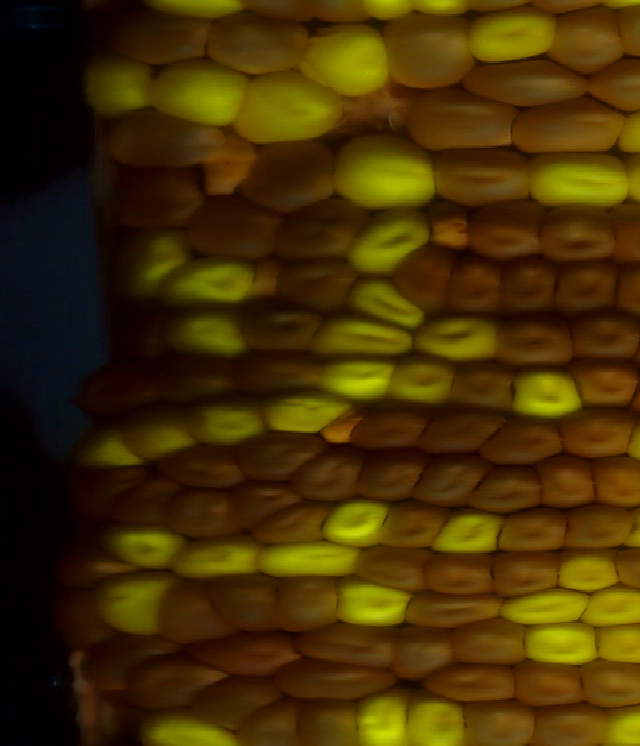fluorescent: (328, 133, 442, 212), (235, 69, 342, 143), (298, 19, 388, 97), (150, 55, 250, 125), (526, 149, 629, 209), (157, 255, 261, 308), (463, 6, 560, 62), (310, 314, 415, 360), (81, 53, 156, 117), (345, 272, 425, 330), (349, 212, 428, 269), (97, 572, 167, 635), (171, 533, 263, 580), (254, 540, 365, 578), (417, 316, 499, 367), (508, 367, 584, 420), (191, 401, 270, 448), (265, 390, 349, 434), (403, 690, 468, 746), (321, 499, 393, 549), (133, 709, 230, 746), (339, 577, 407, 628), (126, 237, 187, 293), (124, 406, 193, 455), (435, 508, 504, 557), (502, 590, 592, 627), (108, 525, 186, 567), (383, 359, 457, 403), (518, 624, 599, 664), (354, 690, 410, 745), (175, 316, 247, 357), (325, 359, 393, 402), (557, 550, 623, 592), (582, 583, 640, 628), (77, 433, 147, 470), (597, 624, 640, 665), (607, 704, 640, 746)
nonfluorescent: (110, 108, 236, 165), (509, 96, 629, 154), (405, 93, 520, 153), (204, 11, 310, 74), (384, 12, 472, 87), (465, 57, 593, 106), (275, 196, 365, 265), (246, 140, 335, 206), (189, 199, 282, 260), (110, 7, 215, 61), (433, 148, 531, 204), (465, 199, 549, 264), (113, 166, 194, 233), (551, 3, 626, 75), (76, 357, 162, 419), (279, 655, 398, 699), (539, 199, 617, 264), (204, 570, 283, 633), (491, 313, 577, 370), (236, 297, 319, 355), (484, 411, 566, 467), (157, 577, 224, 644), (299, 622, 398, 667), (239, 430, 323, 483), (131, 649, 213, 703), (171, 482, 245, 540), (471, 459, 545, 517), (447, 616, 526, 670), (158, 440, 246, 488), (421, 449, 486, 512), (158, 353, 238, 404), (398, 246, 456, 316), (561, 404, 634, 459), (551, 260, 620, 318), (212, 635, 305, 678), (276, 256, 351, 309), (354, 545, 436, 593), (514, 656, 588, 708), (498, 254, 557, 319), (421, 402, 499, 451), (429, 661, 520, 703), (447, 249, 503, 317), (538, 451, 598, 514), (571, 313, 640, 367), (349, 401, 428, 448), (275, 575, 342, 630), (77, 635, 155, 682), (393, 623, 454, 683), (235, 350, 320, 393), (424, 548, 497, 598), (250, 498, 329, 544), (461, 699, 537, 746), (198, 675, 270, 724), (449, 360, 515, 413), (491, 551, 567, 597), (497, 507, 571, 554), (407, 588, 500, 625), (58, 593, 119, 649), (533, 702, 610, 746), (379, 499, 446, 549), (300, 445, 363, 498), (563, 504, 633, 551), (72, 467, 144, 511), (299, 695, 361, 746), (361, 446, 420, 499), (581, 657, 640, 709), (589, 453, 640, 513), (575, 360, 640, 407), (233, 697, 302, 740), (587, 60, 640, 112), (115, 480, 178, 522), (603, 198, 640, 265), (245, 480, 294, 524)
